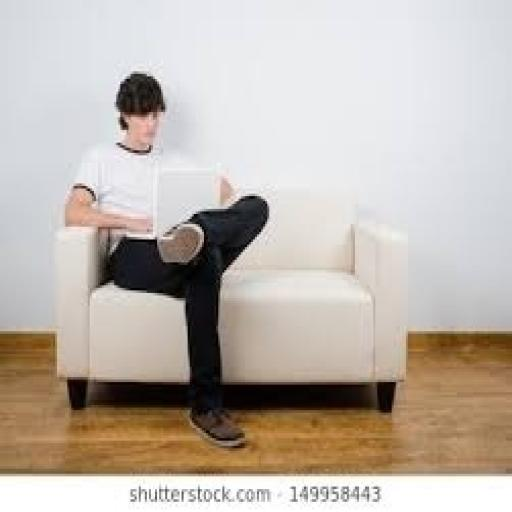sitting: (61, 69, 269, 448)
